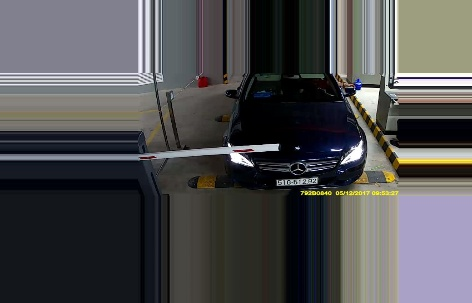plate: (271, 175, 321, 188)
